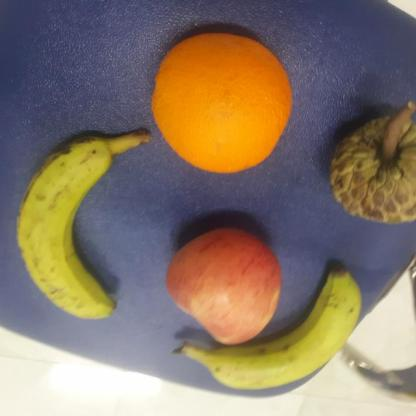annona: (327, 112, 416, 228)
apple: (163, 223, 284, 347)
banana: (14, 130, 117, 324)
orange: (150, 29, 297, 176)
